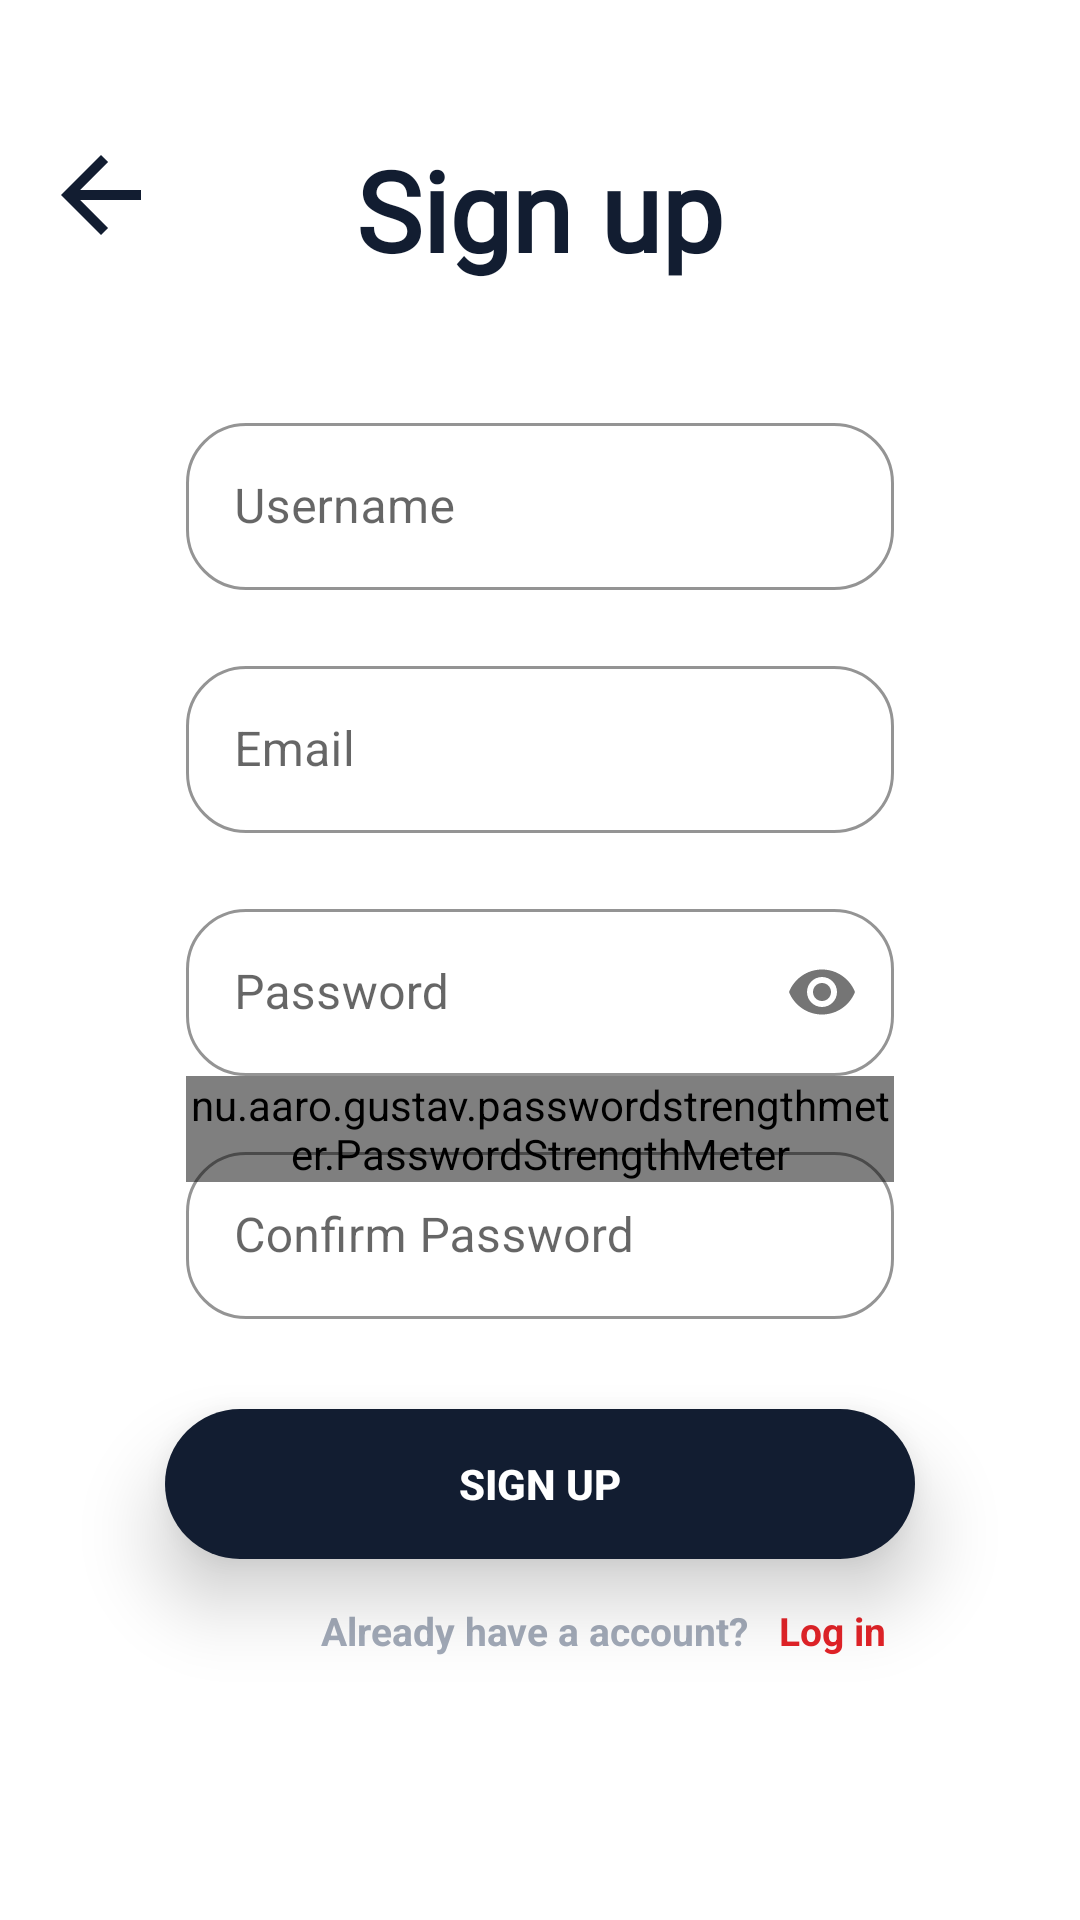

Icon bounding boxes for this 1080 × 1920 phone screenshot, format bbox=[x1, y1, x2, y2]:
arrow back: bbox=[61, 155, 141, 235]
